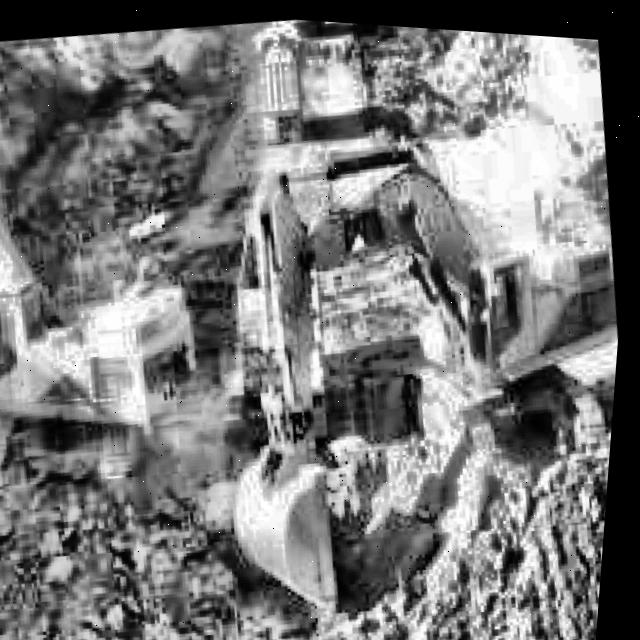dump_truck: (236, 19, 313, 137)
excavator: (180, 122, 634, 640), (0, 120, 227, 507)
